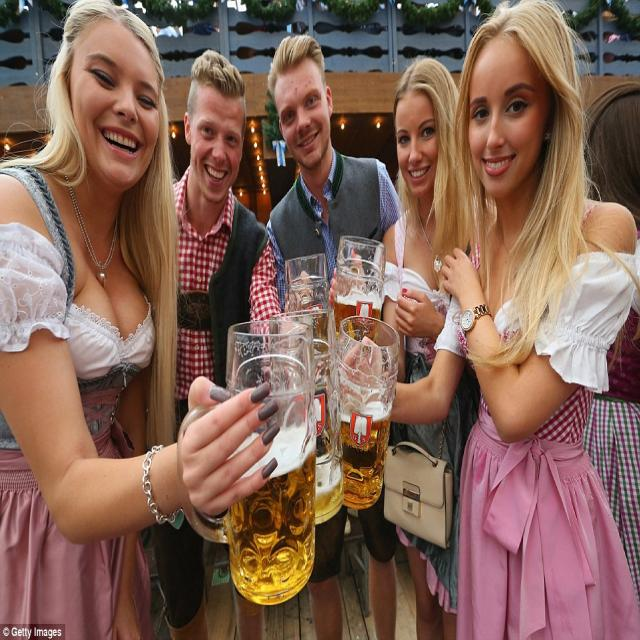body: (330, 0, 639, 639), (0, 0, 282, 640), (263, 32, 404, 640), (152, 44, 287, 640), (375, 53, 497, 640)
